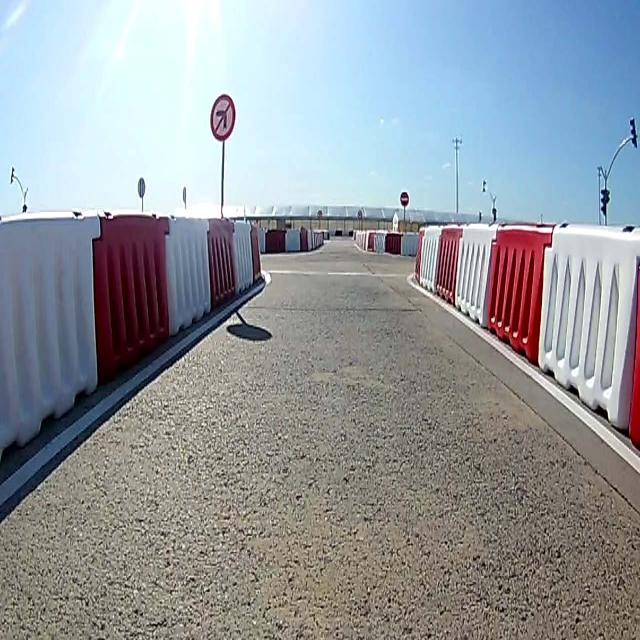girisyok: (400, 189, 410, 209)
soladonulmez: (209, 92, 237, 143)
